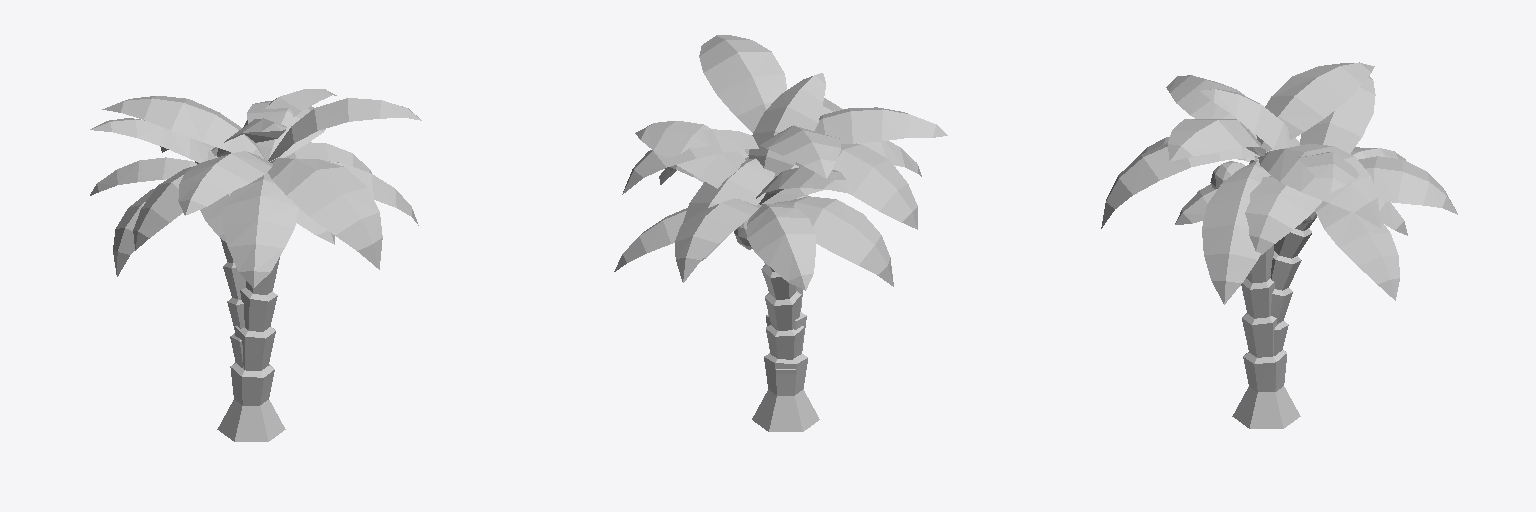
File: Tree_Palm_2.obj
3 views of the same model, side by side, from view 1: azimuth 30°, elevation 25°; view 2: azimuth 150°, elevation 25°; view 3: azimuth 270°, elevation 25° (orthographic).
Visible parts, largest first — view 1: Cube.145_Cube.159, Cylinder.085_Cylinder.081, Cube.130_Cube.154, Cube.131_Cube.155, Cube.147_Cube.161, Cube.148_Cube.162, Cube.080_Cube.145, Cube.132_Cube.156, Cube.085_Cube.150, Cube.144_Cube.158, Cylinder.074_Cylinder.076, Cube.088_Cube.153 (+5 smaller); view 2: Cube.148_Cube.162, Cube.088_Cube.153, Cube.085_Cube.150, Cube.132_Cube.156, Cylinder.085_Cylinder.081, Cube.086_Cube.151, Cube.147_Cube.161, Cube.087_Cube.152, Cube.083_Cube.148, Cylinder.074_Cylinder.076, Cube.131_Cube.155, Cube.146_Cube.160 (+4 smaller); view 3: Cylinder.085_Cylinder.081, Cube.143_Cube.157, Cube.131_Cube.155, Cube.144_Cube.158, Cube.082_Cube.147, Cube.084_Cube.149, Cube.083_Cube.148, Cube.145_Cube.159, Cube.148_Cube.162, Cube.080_Cube.145, Cylinder.074_Cylinder.076, Cube.086_Cube.151 (+4 smaller).
Part boxes in pixels (x1,y1,x2,y2): Cube.145_Cube.159: (268,158,382,269); Cylinder.085_Cylinder.081: (217,257,285,441); Cube.130_Cube.154: (222,172,298,288); Cube.131_Cube.155: (102,96,264,158); Cube.147_Cube.161: (178,151,272,215); Cube.148_Cube.162: (268,98,421,161); Cube.080_Cube.145: (90,118,216,162); Cube.132_Cube.156: (133,166,193,250); Cube.085_Cube.150: (90,157,196,195); Cube.144_Cube.158: (247,101,325,161); Cylinder.074_Cylinder.076: (220,238,245,368); Cube.088_Cube.153: (113,188,155,276); Cube.148_Cube.162: (699,35,786,132); Cube.088_Cube.153: (775,196,893,286); Cube.085_Cube.150: (747,204,815,290); Cube.132_Cube.156: (795,143,917,229); Cylinder.085_Cylinder.081: (752,286,819,431); Cube.086_Cube.151: (748,73,825,177); Cube.147_Cube.161: (815,107,947,143); Cube.087_Cube.152: (635,121,745,188); Cube.083_Cube.148: (675,198,761,282); Cylinder.074_Cylinder.076: (761,262,803,373); Cube.131_Cube.155: (760,125,840,178); Cube.146_Cube.160: (683,157,774,260); Cylinder.085_Cylinder.081: (1232,156,1300,428); Cube.143_Cube.157: (1202,160,1270,304); Cube.131_Cube.155: (1256,62,1374,155); Cube.144_Cube.158: (1258,144,1380,227); Cube.082_Cube.147: (1315,201,1399,300); Cube.084_Cube.149: (1245,175,1321,255); Cube.083_Cube.148: (1358,156,1457,214); Cube.145_Cube.159: (1101,143,1257,228); Cube.148_Cube.162: (1168,119,1265,161); Cube.080_Cube.145: (1300,75,1375,153); Cylinder.074_Cylinder.076: (1270,217,1316,355); Cube.086_Cube.151: (1200,89,1300,149).
Size of the model in its own units: 2.33 by 2.73 by 2.66.